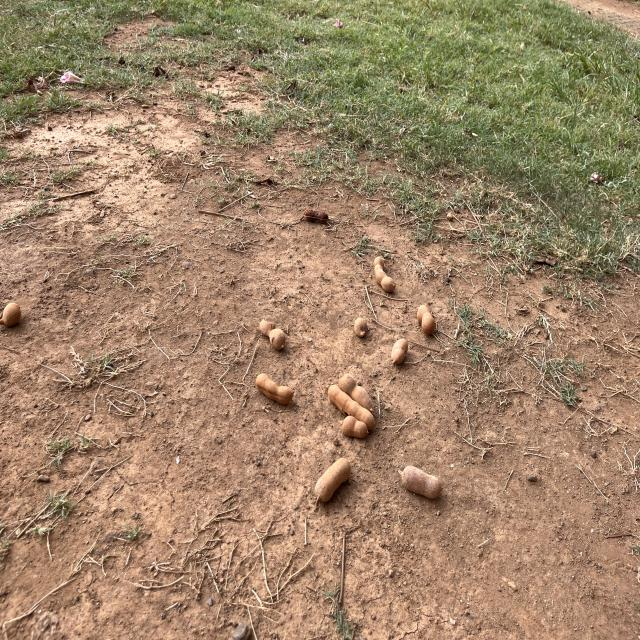tamarind: (329, 383, 378, 430), (316, 457, 352, 503), (402, 463, 442, 500), (340, 373, 373, 413), (256, 372, 296, 404), (258, 318, 286, 351), (376, 256, 396, 294), (343, 414, 369, 440), (418, 304, 437, 336), (4, 302, 22, 328), (305, 207, 327, 225), (354, 316, 371, 339), (392, 338, 407, 362)
